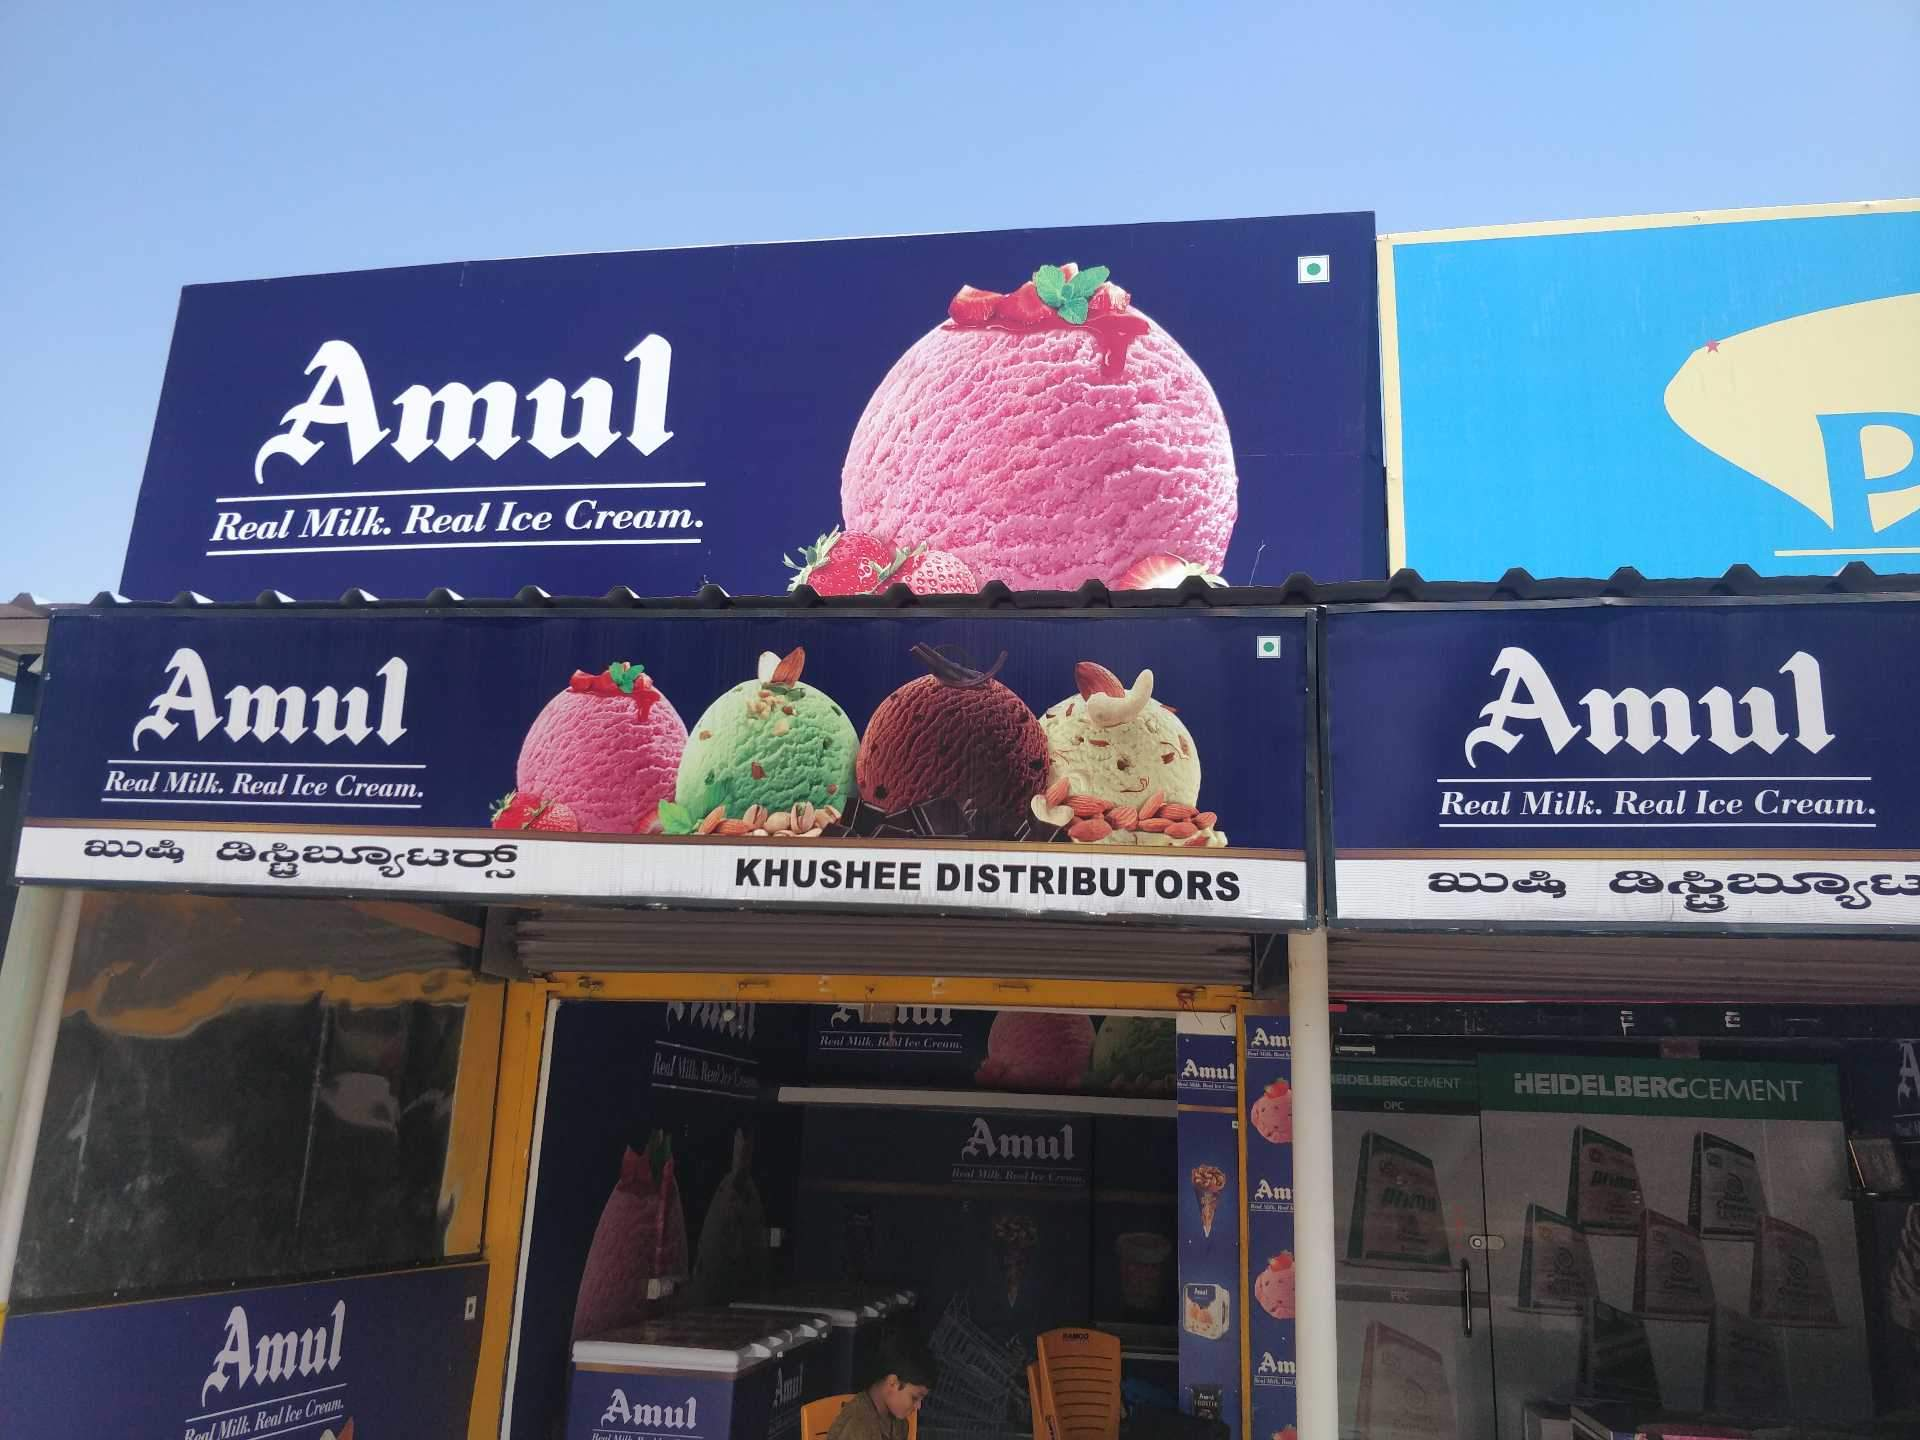Amul: (1457, 631, 1857, 782), (228, 340, 698, 466), (112, 641, 447, 782), (166, 1295, 399, 1404), (937, 1110, 1089, 1171), (590, 1384, 701, 1440), (1175, 1054, 1240, 1103)
